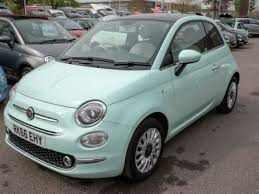car: (6, 16, 238, 176), (1, 16, 78, 80), (49, 13, 89, 47), (210, 21, 237, 49)
